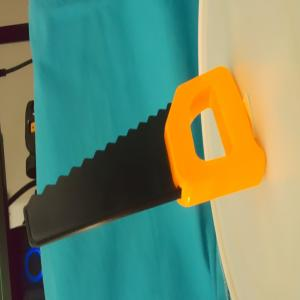serrote: (24, 65, 266, 249)
